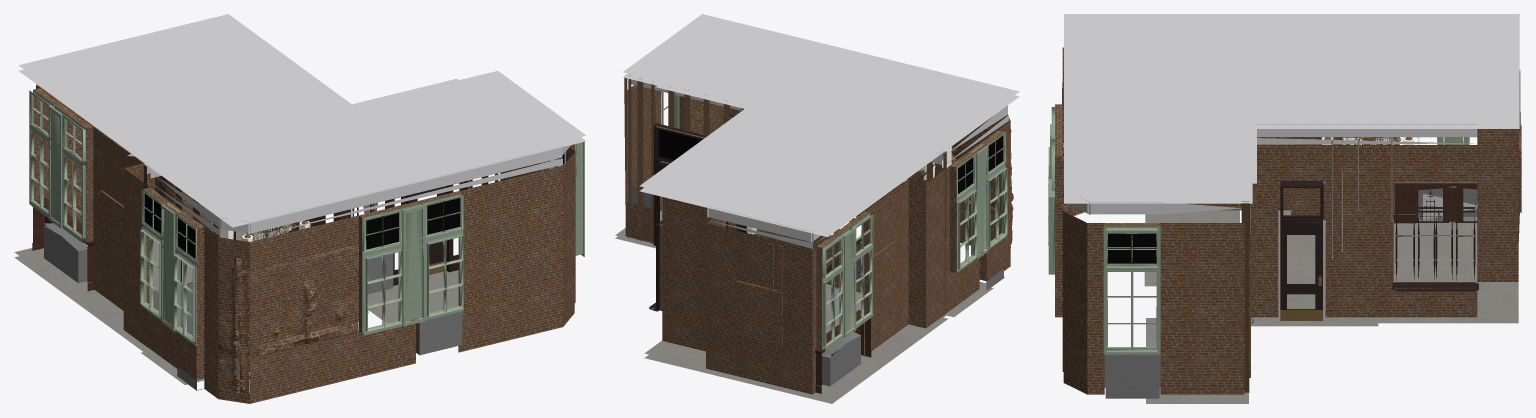
File: exhibit.glb
The picture shows the model from 3 angles, left to right: view 1: azimuth 30°, elevation 25°; view 2: azimuth 150°, elevation 25°; view 3: azimuth 270°, elevation 25°; orthographic projection. The views are drawn at different scales.
Parts seen in each view (by area): view 1: Object_4, Object_15, Object_25, Object_10, Object_13, Object_20, Object_19, Object_11, Object_17; view 2: Object_4, Object_15, Object_25, Object_10, Object_17, Object_13, Object_20, Object_19, Object_11, Object_18; view 3: Object_4, Object_15, Object_10, Object_19, Object_25, Object_13, Object_11, Object_20, Object_17, Object_16, Object_5, Object_14.
Part boxes in pixels (left/top/right/bottom): Object_4: left=18, top=14, right=586, bottom=236; Object_15: left=34, top=85, right=575, bottom=403; Object_25: left=29, top=89, right=584, bottom=345; Object_10: left=14, top=223, right=458, bottom=384; Object_13: left=44, top=223, right=462, bottom=389; Object_20: left=144, top=150, right=567, bottom=258; Object_19: left=313, top=180, right=468, bottom=285; Object_11: left=32, top=198, right=95, bottom=291; Object_17: left=143, top=164, right=501, bottom=333; Object_4: left=623, top=14, right=1019, bottom=248; Object_15: left=625, top=85, right=1013, bottom=394; Object_25: left=661, top=91, right=1007, bottom=350; Object_10: left=615, top=205, right=993, bottom=403; Object_17: left=624, top=74, right=946, bottom=304; Object_13: left=631, top=162, right=1003, bottom=386; Object_20: left=659, top=129, right=1003, bottom=193; Object_19: left=649, top=123, right=746, bottom=311; Object_11: left=815, top=310, right=871, bottom=393; Object_18: left=725, top=115, right=861, bottom=292; Object_4: left=1064, top=14, right=1519, bottom=214; Object_15: left=1055, top=47, right=1521, bottom=394; Object_10: left=1144, top=210, right=1518, bottom=403; Object_19: left=1249, top=181, right=1478, bottom=309; Object_25: left=1048, top=107, right=1476, bottom=354; Object_13: left=1104, top=186, right=1477, bottom=398; Object_11: left=1394, top=185, right=1477, bottom=223; Object_20: left=1107, top=233, right=1156, bottom=263; Object_17: left=1241, top=201, right=1249, bottom=392; Object_16: left=1331, top=139, right=1392, bottom=259; Object_5: left=1280, top=137, right=1390, bottom=320; Object_14: left=1423, top=193, right=1477, bottom=219.
Size of the model in its own units: 9.87 by 4.69 by 9.91.
19 materials, 16 textured.
